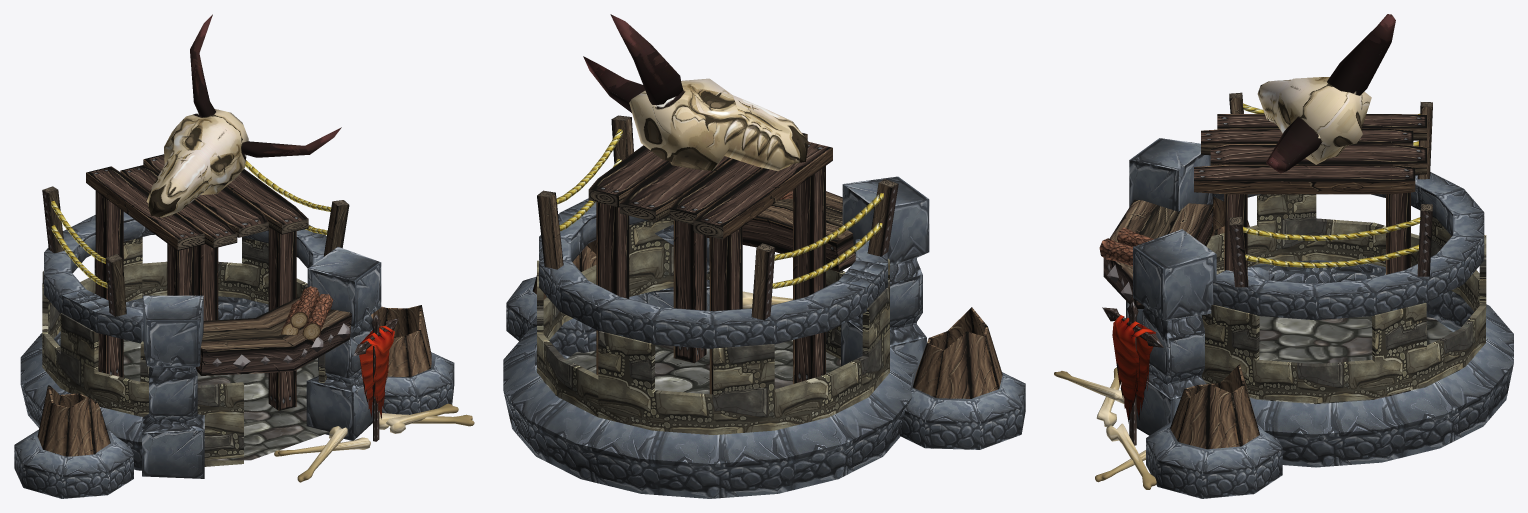
Rendered from Orc_Construction_town_hall_2.FBX.
3 renders of one model, left to right at view 1: azimuth 30°, elevation 25°; view 2: azimuth 150°, elevation 25°; view 3: azimuth 270°, elevation 25°, orthographic. The views are drawn at different scales.
Parts seen in each view (by area): view 1: column003, wood_table018, build004, vertebra004, roofing008, ceiling005, foundation010, foundation012, Wood_wall010, foundation009, Wood_wall009, femur036 (+7 smaller); view 2: foundation012, build004, wood_table018, column003, vertebra004, foundation010, Wood_wall010, ceiling005, roofing008, foundation009, large_wood027, large_wood025 (+3 smaller); view 3: column003, build004, foundation012, wood_table018, vertebra004, foundation009, ceiling005, Wood_wall009, roofing008, flag002, femur036, large_wood025 (+5 smaller).
Boxes of the visible parts, x1,y1,x2,y2 form: column003: (44, 212, 381, 478); wood_table018: (86, 154, 308, 410); build004: (42, 237, 326, 466); vertebra004: (146, 14, 341, 217); roofing008: (195, 296, 351, 375); ceiling005: (123, 339, 329, 460); foundation010: (14, 429, 133, 498); foundation012: (20, 296, 268, 470); Wood_wall010: (37, 385, 110, 456); foundation009: (379, 352, 454, 414); Wood_wall009: (371, 305, 431, 377); femur036: (274, 403, 474, 482); foundation012: (503, 293, 917, 498); build004: (537, 216, 889, 434); wood_table018: (588, 133, 832, 394); column003: (539, 176, 929, 368); vertebra004: (583, 14, 808, 170); foundation010: (899, 371, 1025, 449); Wood_wall010: (913, 307, 1002, 398); ceiling005: (541, 340, 840, 396); roofing008: (706, 190, 855, 271); foundation009: (506, 277, 643, 356); large_wood027: (751, 179, 898, 319); large_wood025: (537, 115, 633, 269); column003: (1126, 138, 1484, 435); build004: (1201, 194, 1486, 403); foundation012: (1247, 260, 1513, 467); wood_table018: (1194, 114, 1426, 396); vertebra004: (1257, 14, 1395, 173); foundation009: (1146, 421, 1282, 498); ceiling005: (1249, 316, 1464, 404); Wood_wall009: (1170, 364, 1259, 449); roofing008: (1103, 199, 1213, 308); flag002: (1112, 315, 1155, 423); femur036: (1054, 367, 1156, 489); large_wood025: (1229, 204, 1432, 287).
Size of the model in its own units: 5978 by 4758 by 4906.
